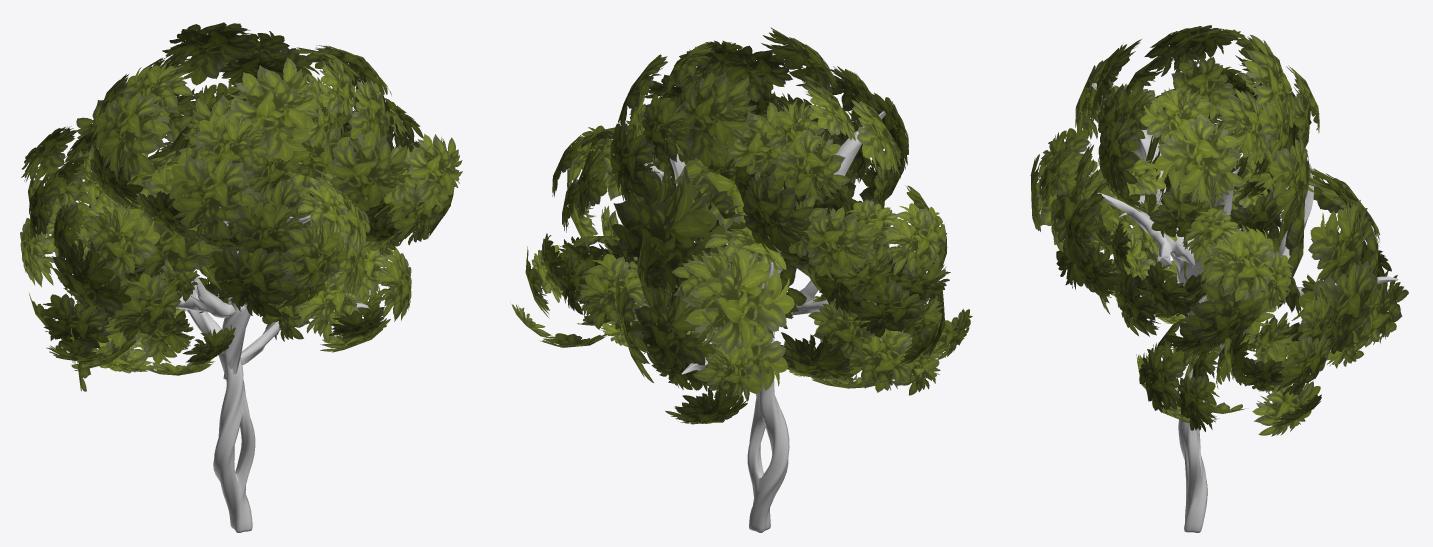
File: SM_Prop_Tree4.fbx
3 views of the same model, side by side, from view 1: azimuth 30°, elevation 25°; view 2: azimuth 150°, elevation 25°; view 3: azimuth 270°, elevation 25° (orthographic). The views are drawn at different scales.
Parts seen in each view (by area): view 1: SM_Prop_Tree4; view 2: SM_Prop_Tree4; view 3: SM_Prop_Tree4.
Boxes of the visible parts, x1,y1,x2,y2 form: SM_Prop_Tree4: (20, 22, 462, 532); SM_Prop_Tree4: (511, 27, 972, 532); SM_Prop_Tree4: (1030, 25, 1408, 532).
Bounding box in the file's own units: 8.08 × 8.92 × 6.64.
